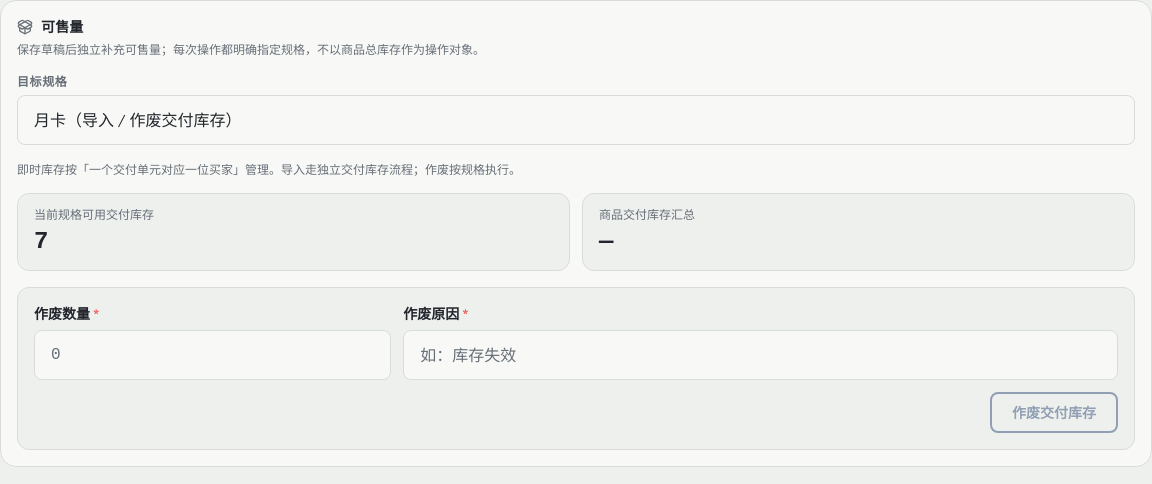
Test: ProductAvailabilityStep (spec §8.1, D-CAT-12/13) › submits an Offer-scoped inventory void and clears the form (spec §8.3)
In the number field with test id "availability-void-count": (213, 355) left=34, top=330, right=391, bottom=380, type "3"
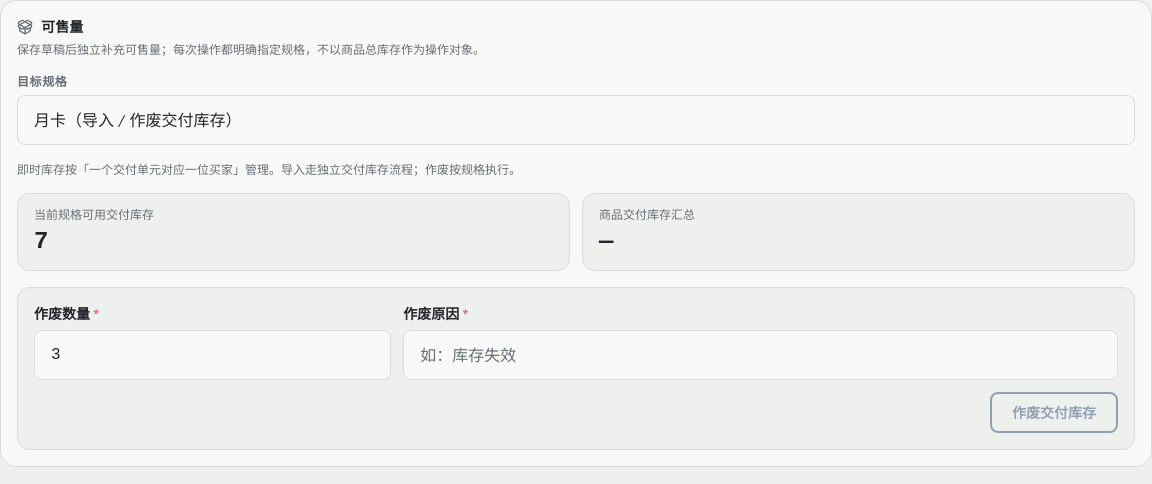
In the field with test id "availability-void-reason": (761, 355) left=403, top=330, right=1118, bottom=380, type "失效"
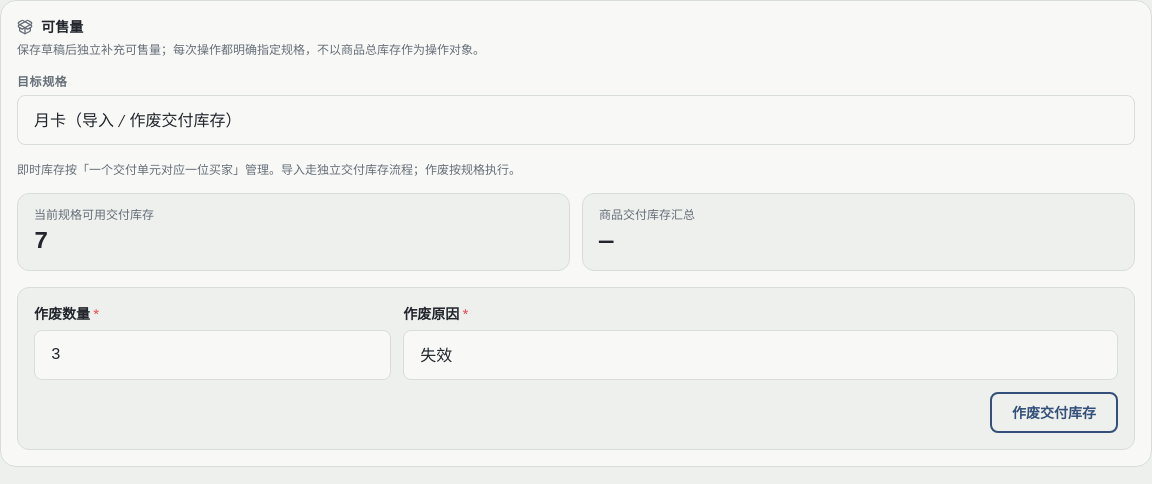
Click the button with test id "availability-void-submit": (1054, 412) left=990, top=392, right=1118, bottom=433
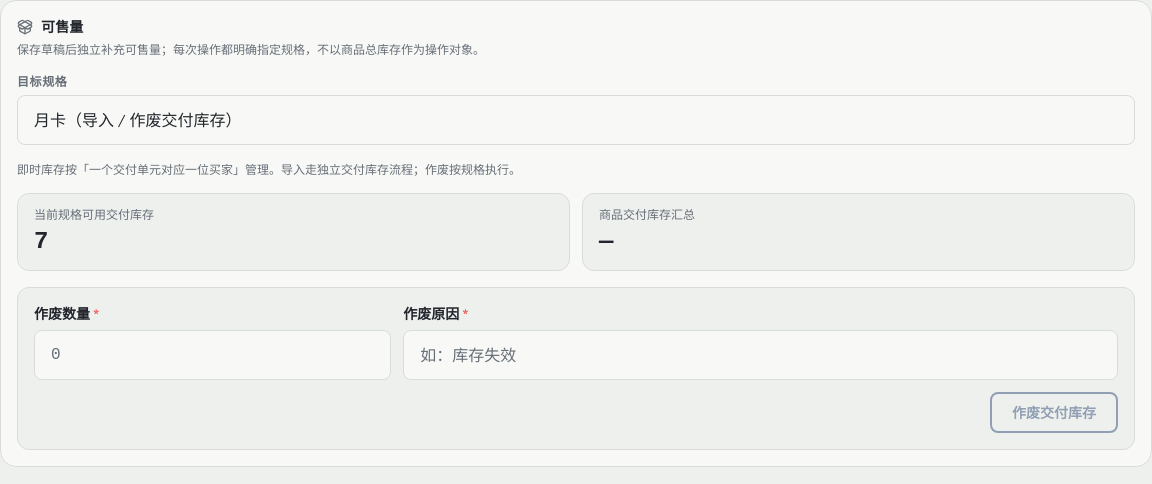
Result: the number field with test id "availability-void-count" is not empty at left=34, top=330, right=391, bottom=380
Result: the field with test id "availability-void-reason" is empty at left=403, top=330, right=1118, bottom=380
